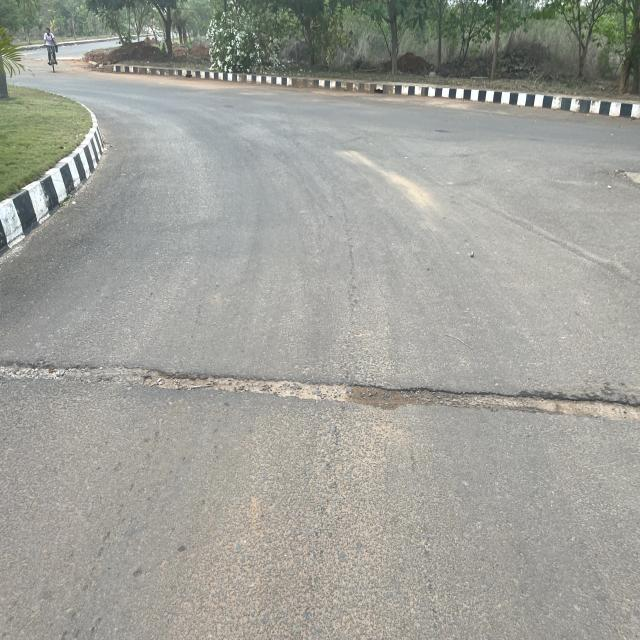D11: (0, 343, 640, 444)
